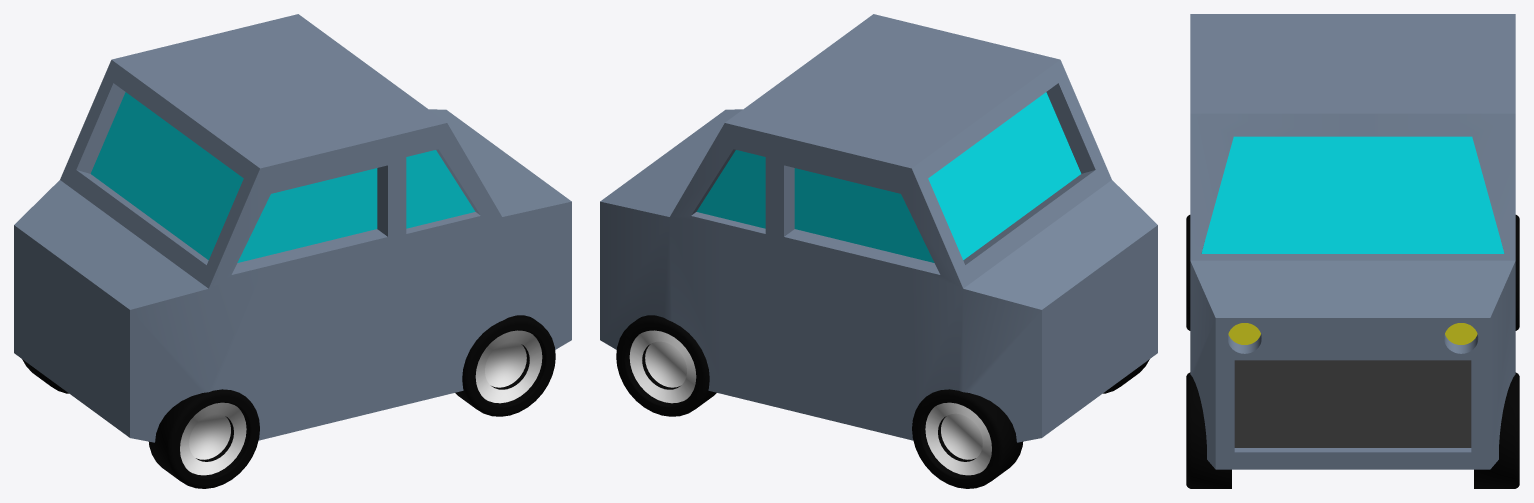
File: PurpleCar.fbx
The picture shows the model from 3 angles, left to right: view 1: azimuth 30°, elevation 25°; view 2: azimuth 150°, elevation 25°; view 3: azimuth 270°, elevation 25°; orthographic projection. The views are drawn at different scales.
Visible parts, largest first — view 1: CarPurple; view 2: CarPurple; view 3: CarPurple.
Boxes of the visible parts, left/top/right/bottom form: CarPurple: left=14, top=14, right=571, bottom=488; CarPurple: left=600, top=14, right=1157, bottom=488; CarPurple: left=1186, top=14, right=1519, bottom=488.
Size of the model in its own units: 5.57 by 3.75 by 3.37.
